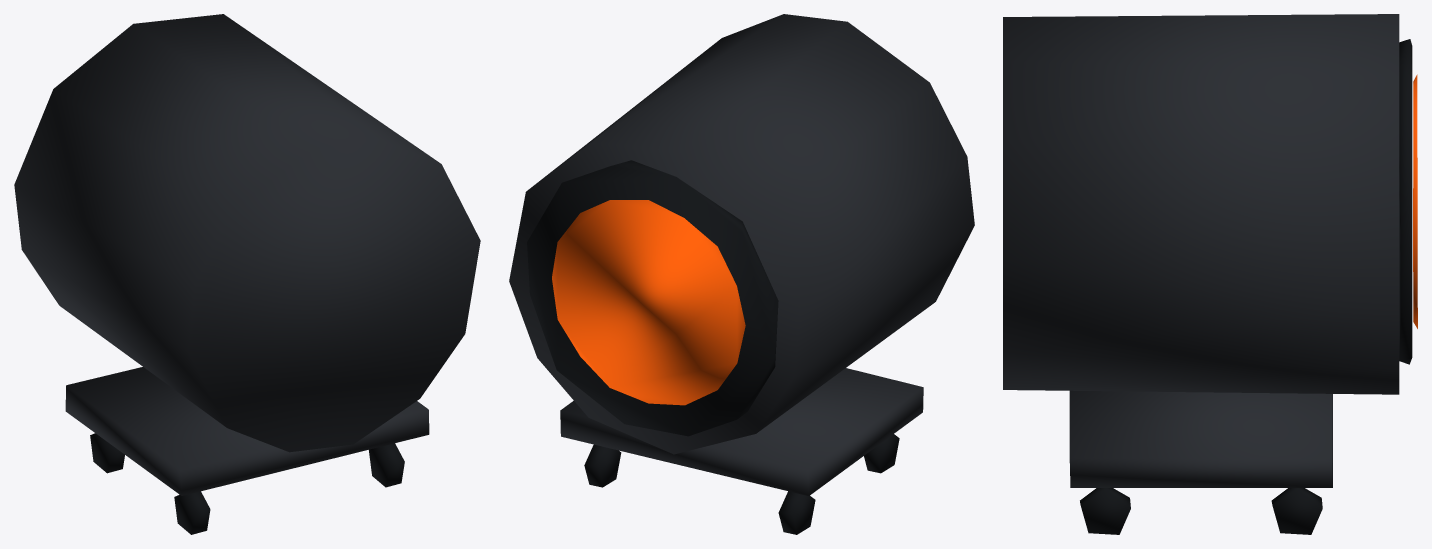
File: heater_fan_lod1.glb
3 renders of one model, left to right at view 1: azimuth 30°, elevation 25°; view 2: azimuth 150°, elevation 25°; view 3: azimuth 270°, elevation 25°, orthographic. The views are drawn at different scales.
Parts seen in each view (by area): view 1: heater_fan__prop_dark, heater_fan__prop_black; view 2: heater_fan__prop_dark, heater_fan__prop_orange, heater_fan__prop_black; view 3: heater_fan__prop_dark, heater_fan__prop_black, heater_fan__prop_orange.
Boxes of the visible parts, x1,y1,x2,y2 form: heater_fan__prop_dark: [14, 14, 480, 495]; heater_fan__prop_black: [90, 433, 404, 534]; heater_fan__prop_dark: [509, 14, 974, 495]; heater_fan__prop_orange: [552, 200, 745, 405]; heater_fan__prop_black: [527, 160, 899, 534]; heater_fan__prop_dark: [1003, 14, 1399, 487]; heater_fan__prop_black: [1080, 39, 1412, 534]; heater_fan__prop_orange: [1413, 74, 1417, 328].
Bounding box in the file's own units: 0.6015 × 0.7757 × 0.6489.
